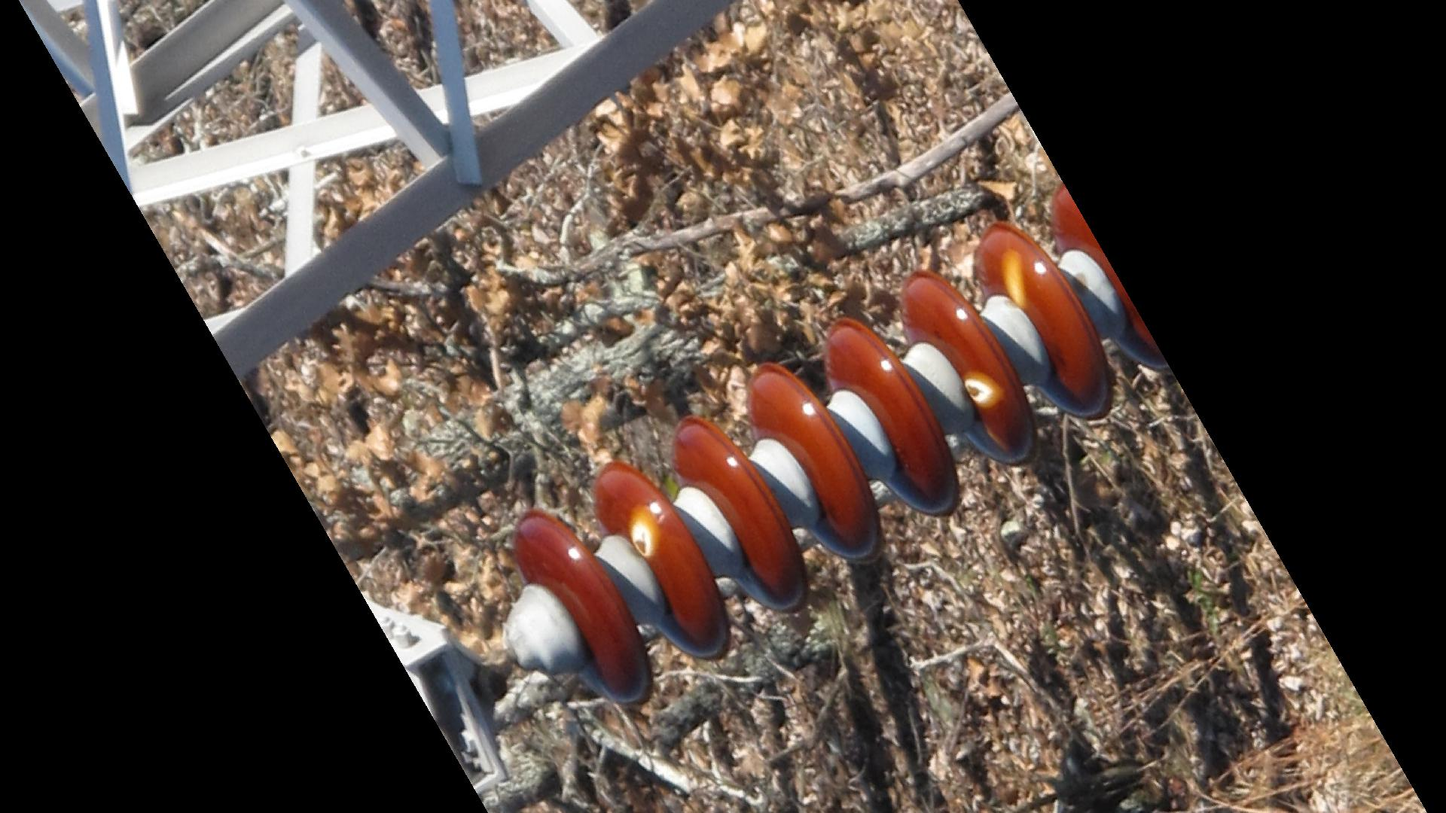insulator: (506, 181, 1170, 711)
insulator_flashover: (997, 248, 1033, 310), (626, 503, 662, 560), (962, 372, 1004, 410)
